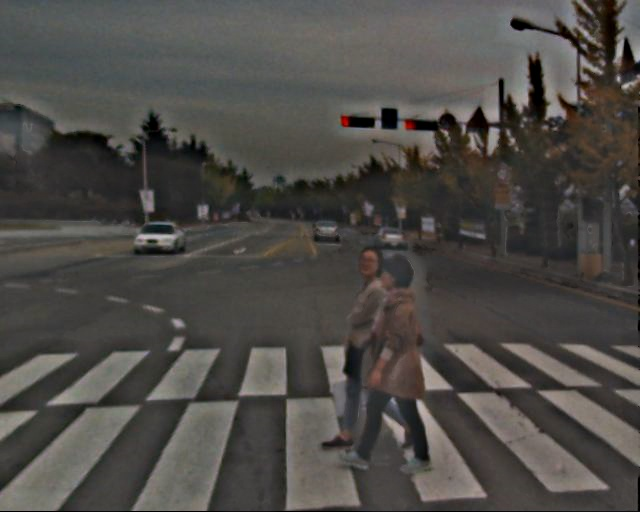person: (351, 257, 441, 470), (336, 239, 409, 447)
